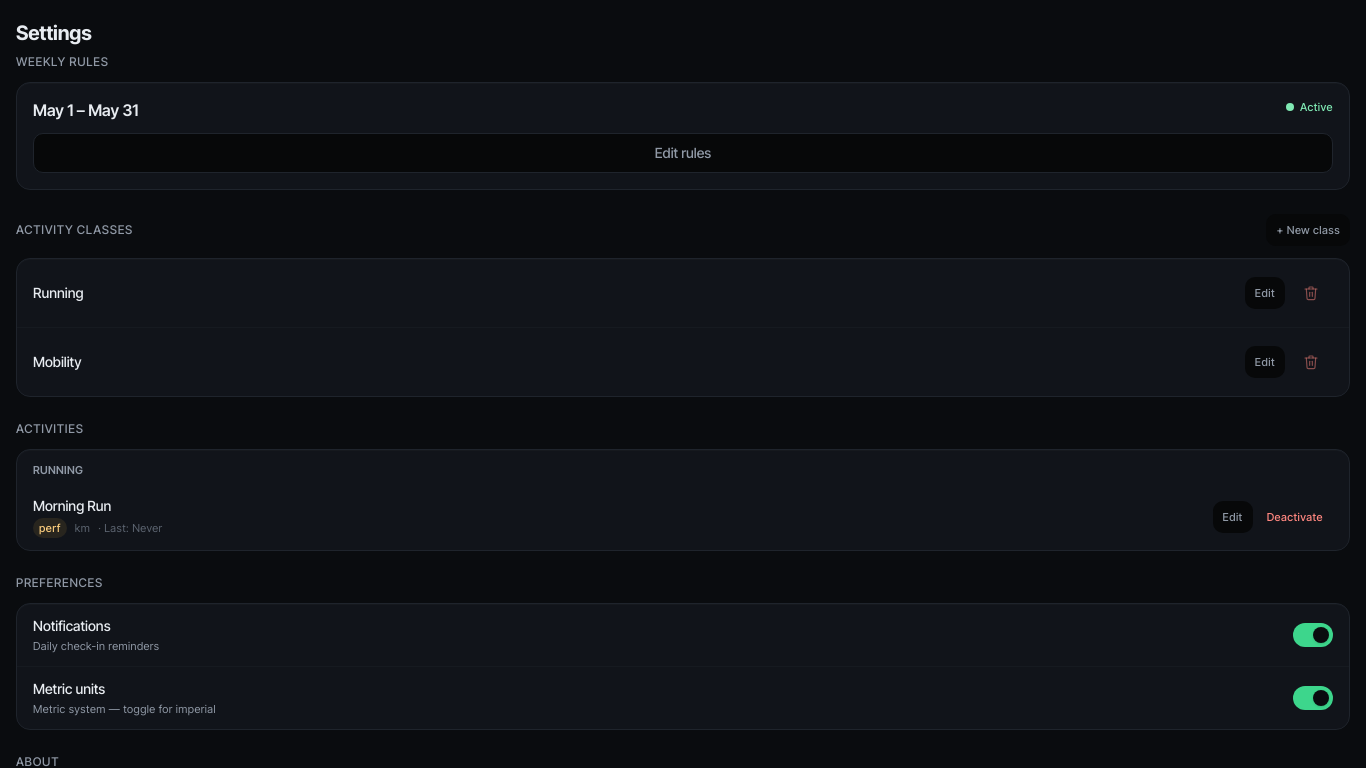
Test: SettingsScreen — P25.3 Edit activity centered modal › prefills name, class, type, and default volume unit from the activity
Click the button with aria-label "edit morning run". click: (1233, 517)
box: [1212,501,1253,533]
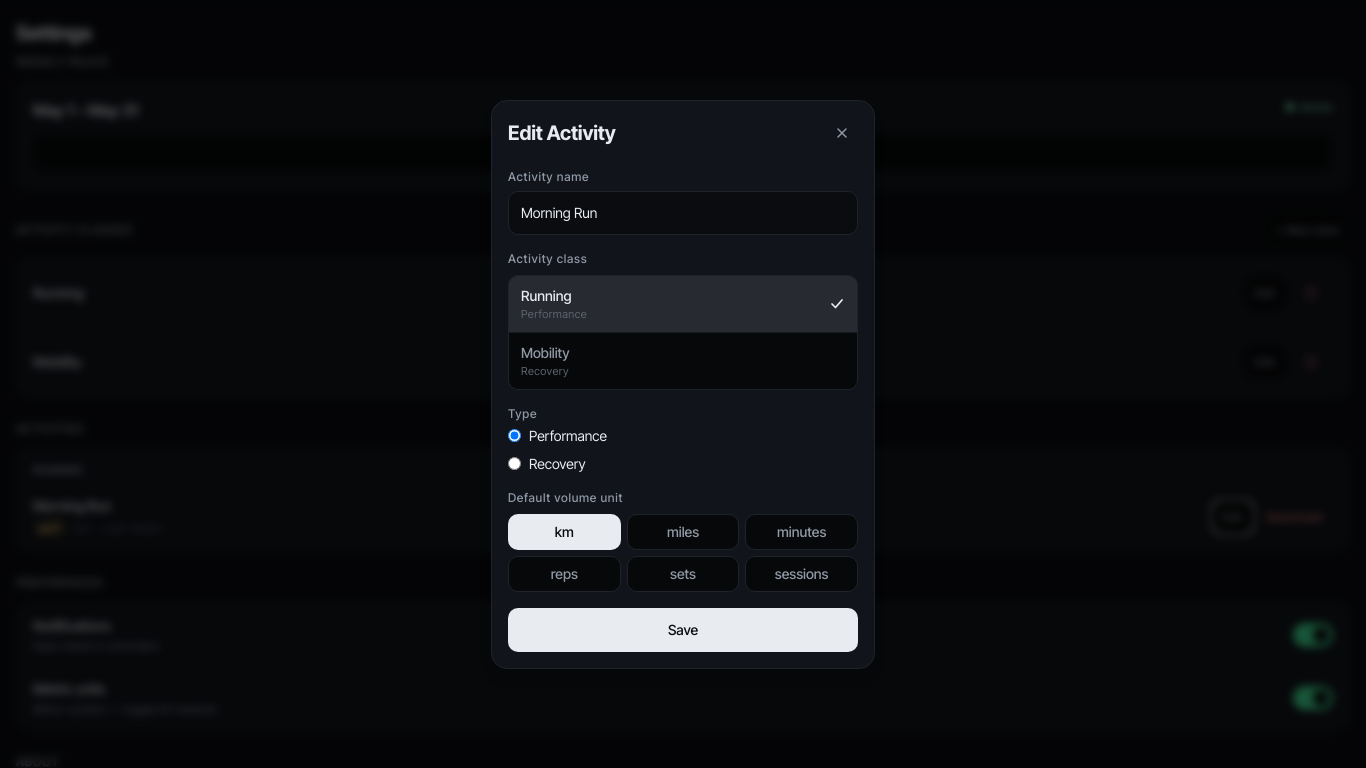
expect the field labelled "Activity name" holds "Morning Run": met, box [508,190,858,234]
